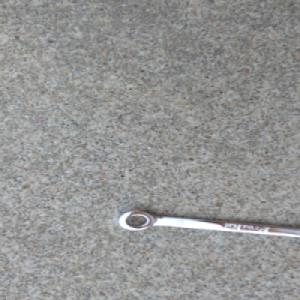Wrench: (117, 209, 300, 242)
